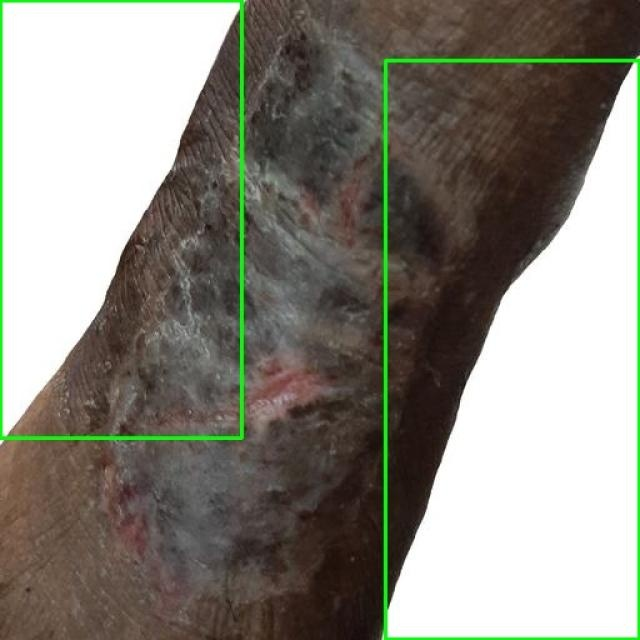Eczema: (385, 60, 639, 639), (0, 0, 241, 438)
